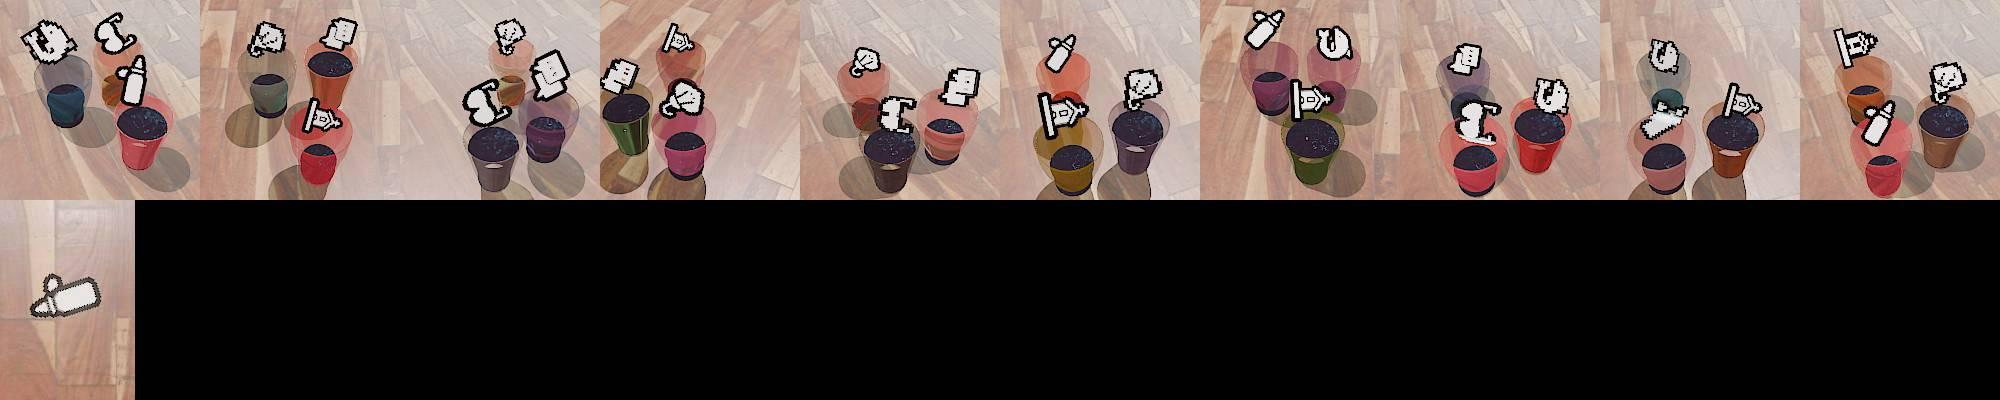icon: (26, 272, 103, 319), (19, 19, 78, 65), (463, 78, 516, 127), (1037, 88, 1088, 137), (1454, 97, 1502, 147), (529, 48, 571, 101), (1639, 97, 1687, 140), (1243, 7, 1287, 52), (1832, 27, 1878, 70), (94, 12, 137, 57), (1860, 97, 1899, 146), (937, 66, 981, 109), (1290, 77, 1335, 119), (114, 52, 148, 107), (661, 78, 706, 118), (600, 56, 643, 97), (878, 94, 920, 135), (1122, 68, 1163, 110), (300, 94, 344, 133), (1928, 61, 1967, 103), (1721, 81, 1763, 120), (1533, 75, 1571, 116), (246, 20, 288, 57), (1315, 24, 1353, 62), (320, 16, 358, 53), (493, 18, 527, 57), (1448, 41, 1483, 76), (1045, 33, 1076, 72), (1648, 38, 1680, 74), (661, 22, 695, 54), (849, 47, 881, 78)
